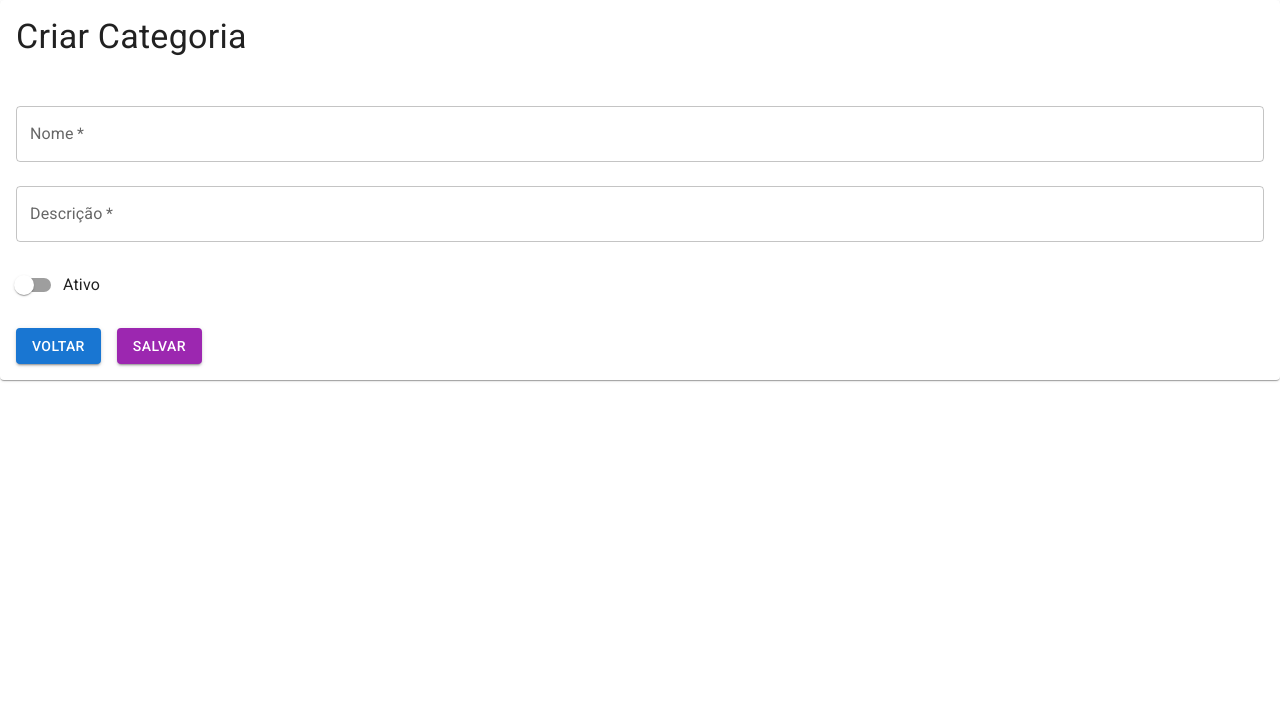
Scenario: Criação de categoria › deve manter o formulário e informar quando o cadastro falhar
This screenshot has width=1280, height=720.
Type "Drama" into the field labelled "Nome".
click(640, 134); type("Drama")  # box [16,106,1264,162]
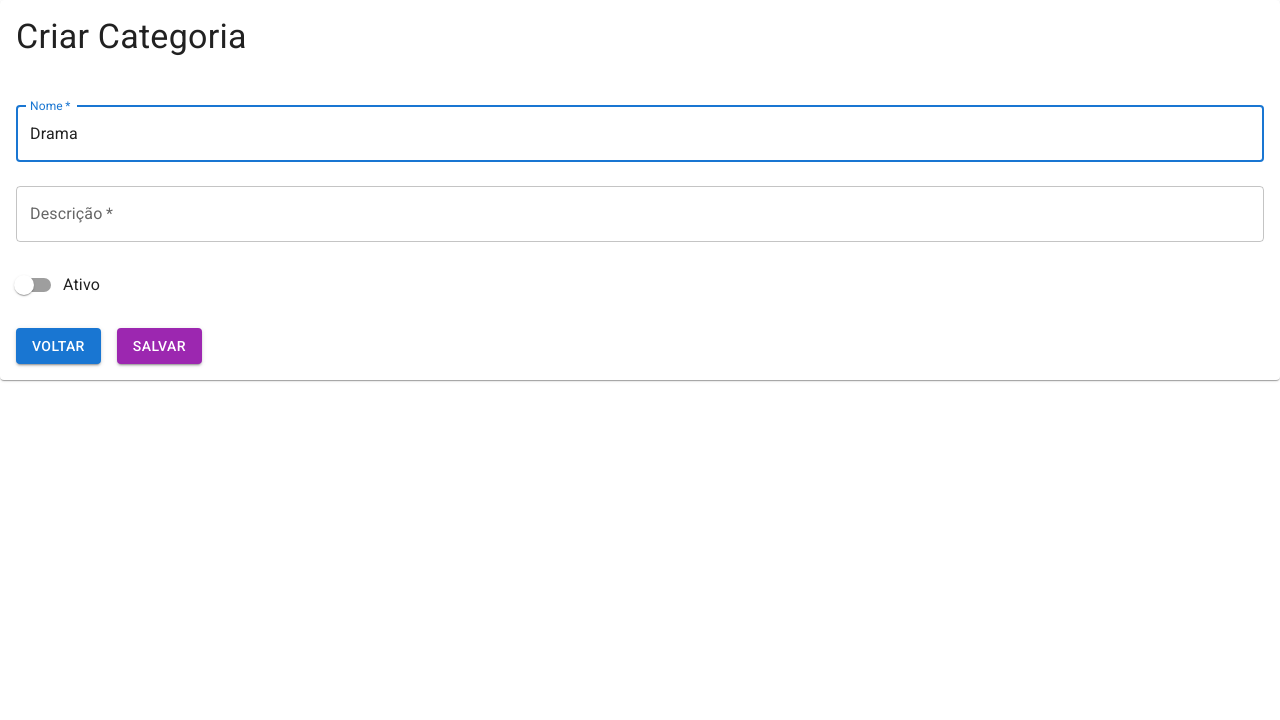
Type "Filmes dramáticos" into the field labelled "Descrição *".
click(640, 214); type("Filmes dramáticos")  # box [16,186,1264,242]
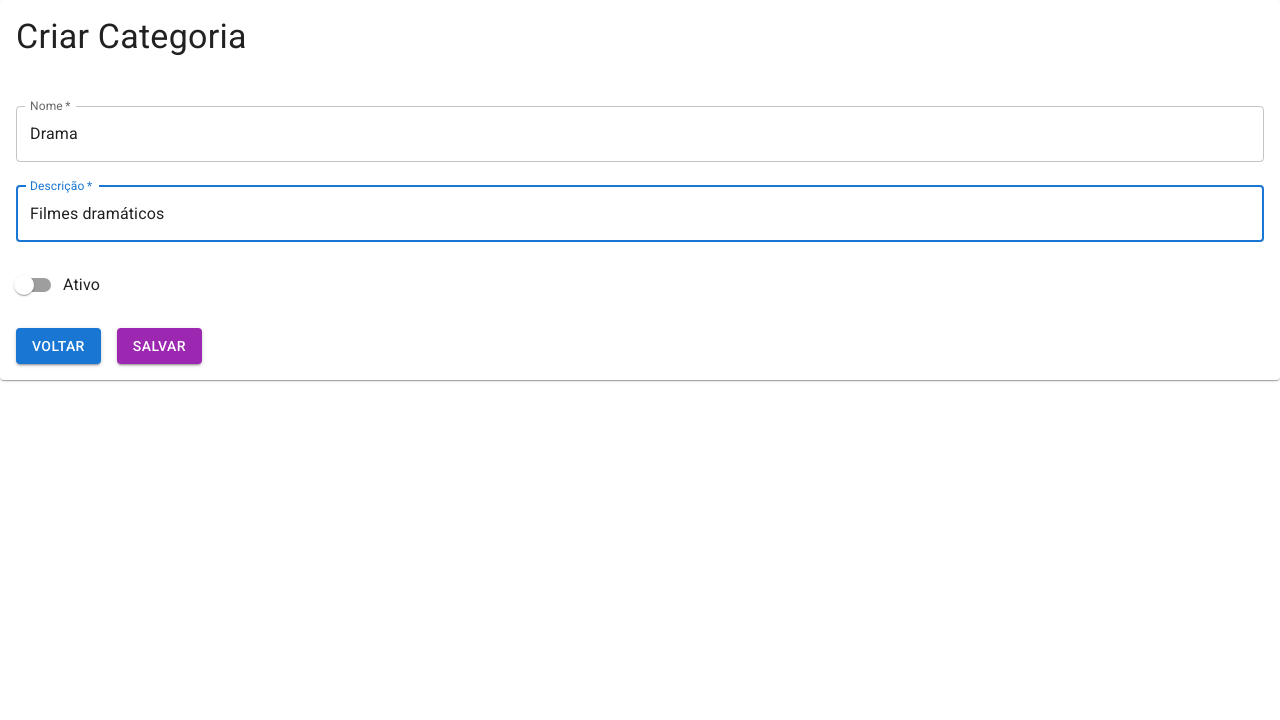
Click the button "Salvar".
click(159, 346)  # box [117,328,202,364]
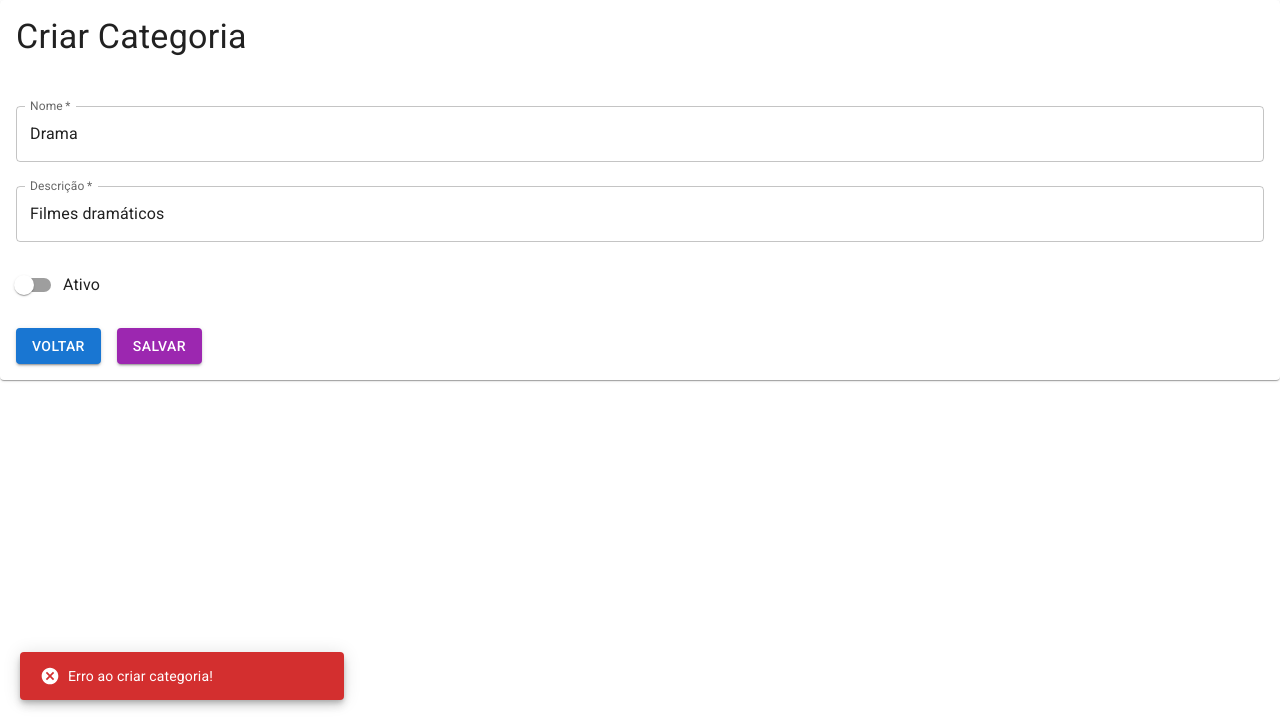
Expected: the heading "Criar Categoria" is shown, [16,16,247,56]
Expected: the text "Erro ao criar categoria!" is shown, [40,666,213,686]
